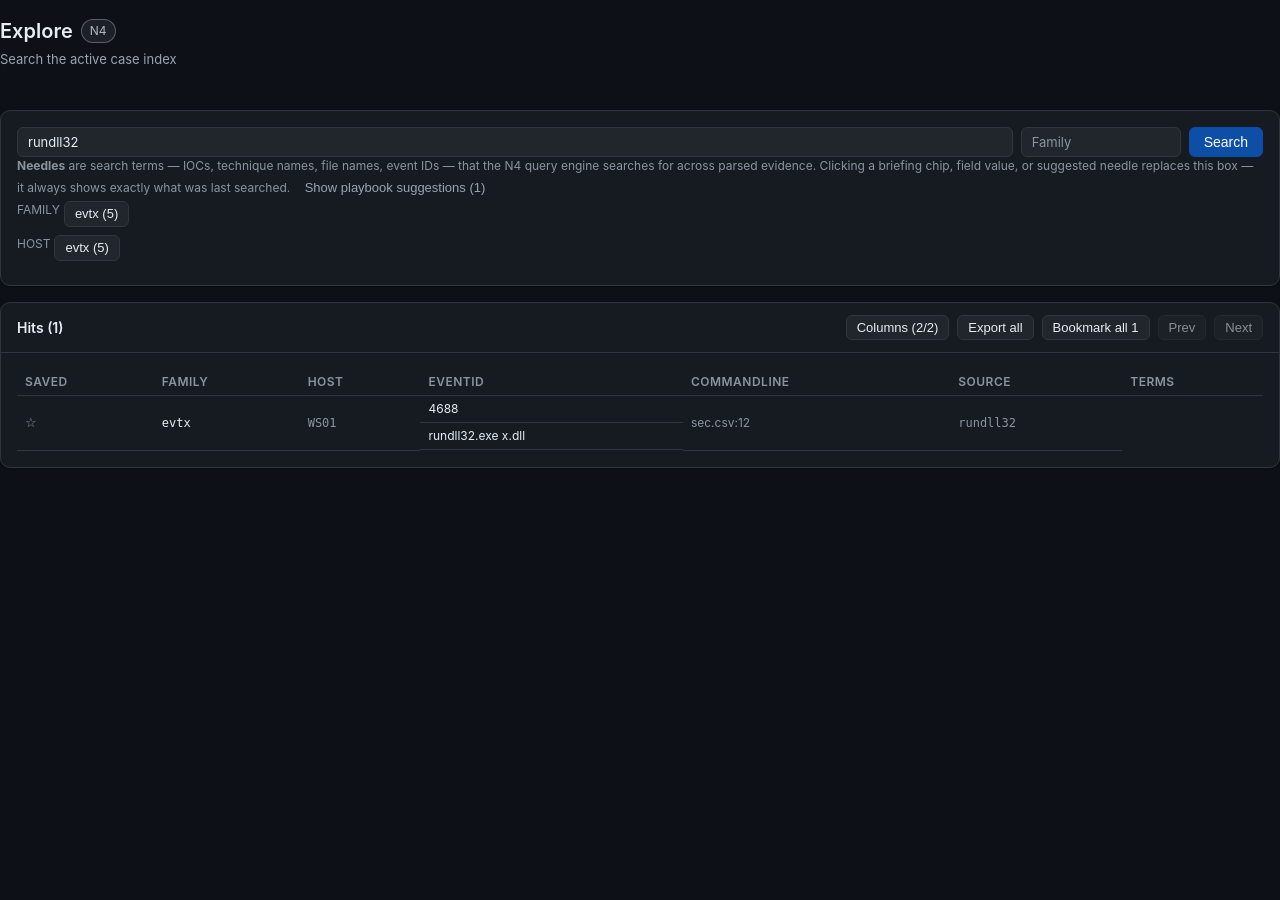
Test: Explore page (WP 4j.5) › opens the event detail on a cell click — never rotates the needle (4j.5c)
// clicking a field cell selects the row — the needle must not move
Click the text "4688" at (552, 410), box [420, 396, 683, 424]
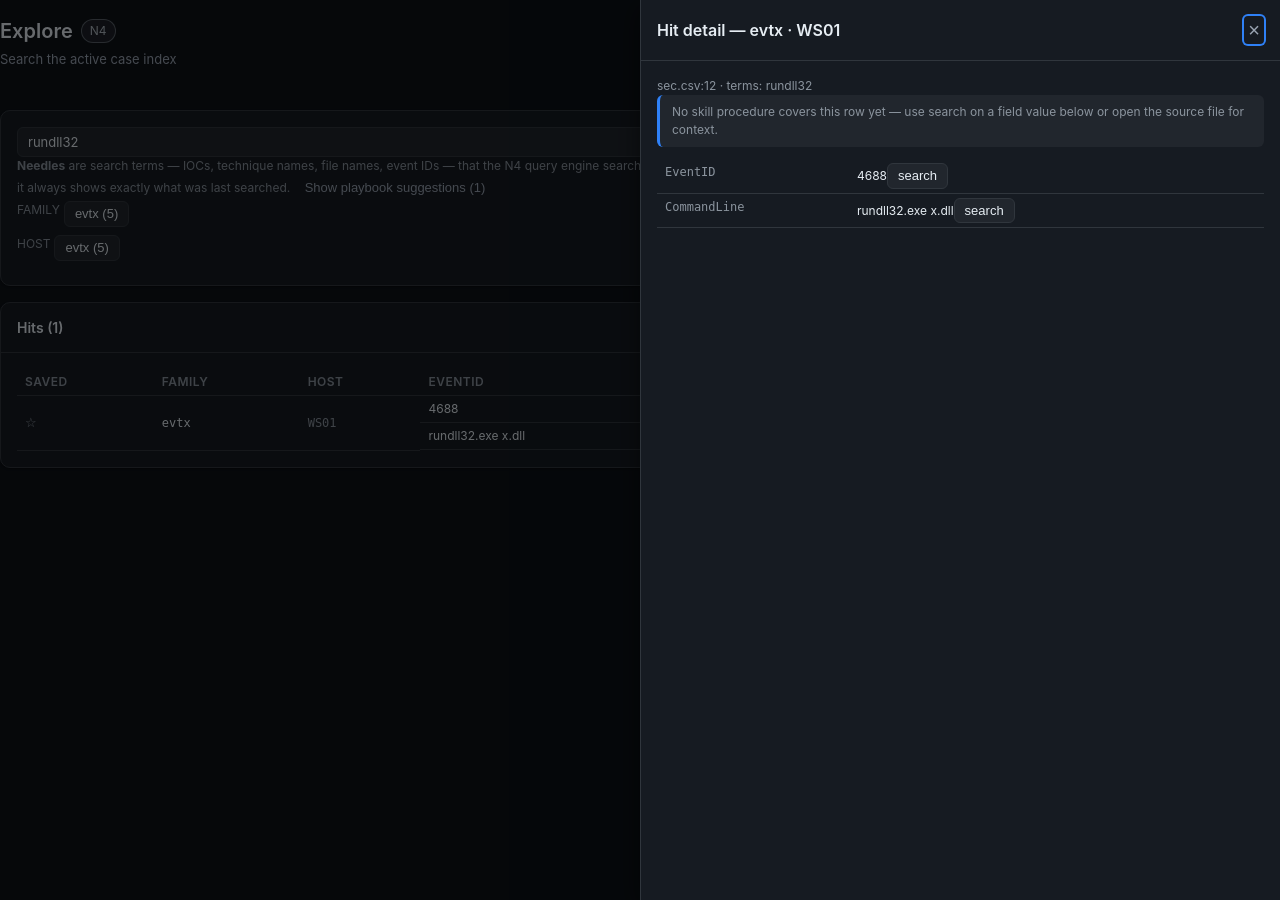
expect the field showing "rundll32" holds "rundll32": met, box [17, 127, 1013, 157]
expect the text "No skill procedure covers this row yet" is shown: met, box [672, 104, 1244, 137]
